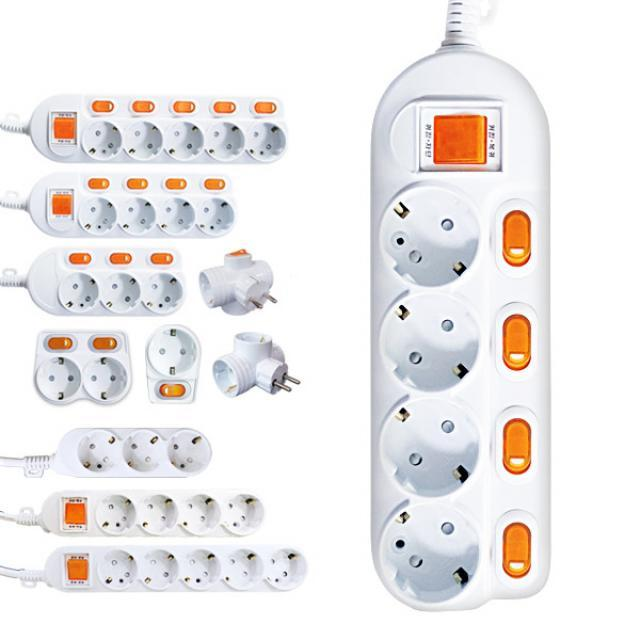typeb: (361, 42, 566, 614), (23, 89, 304, 179), (29, 538, 312, 610), (23, 484, 285, 544), (23, 174, 253, 242), (25, 238, 205, 322), (21, 319, 136, 421), (36, 420, 227, 480), (139, 316, 205, 414)
